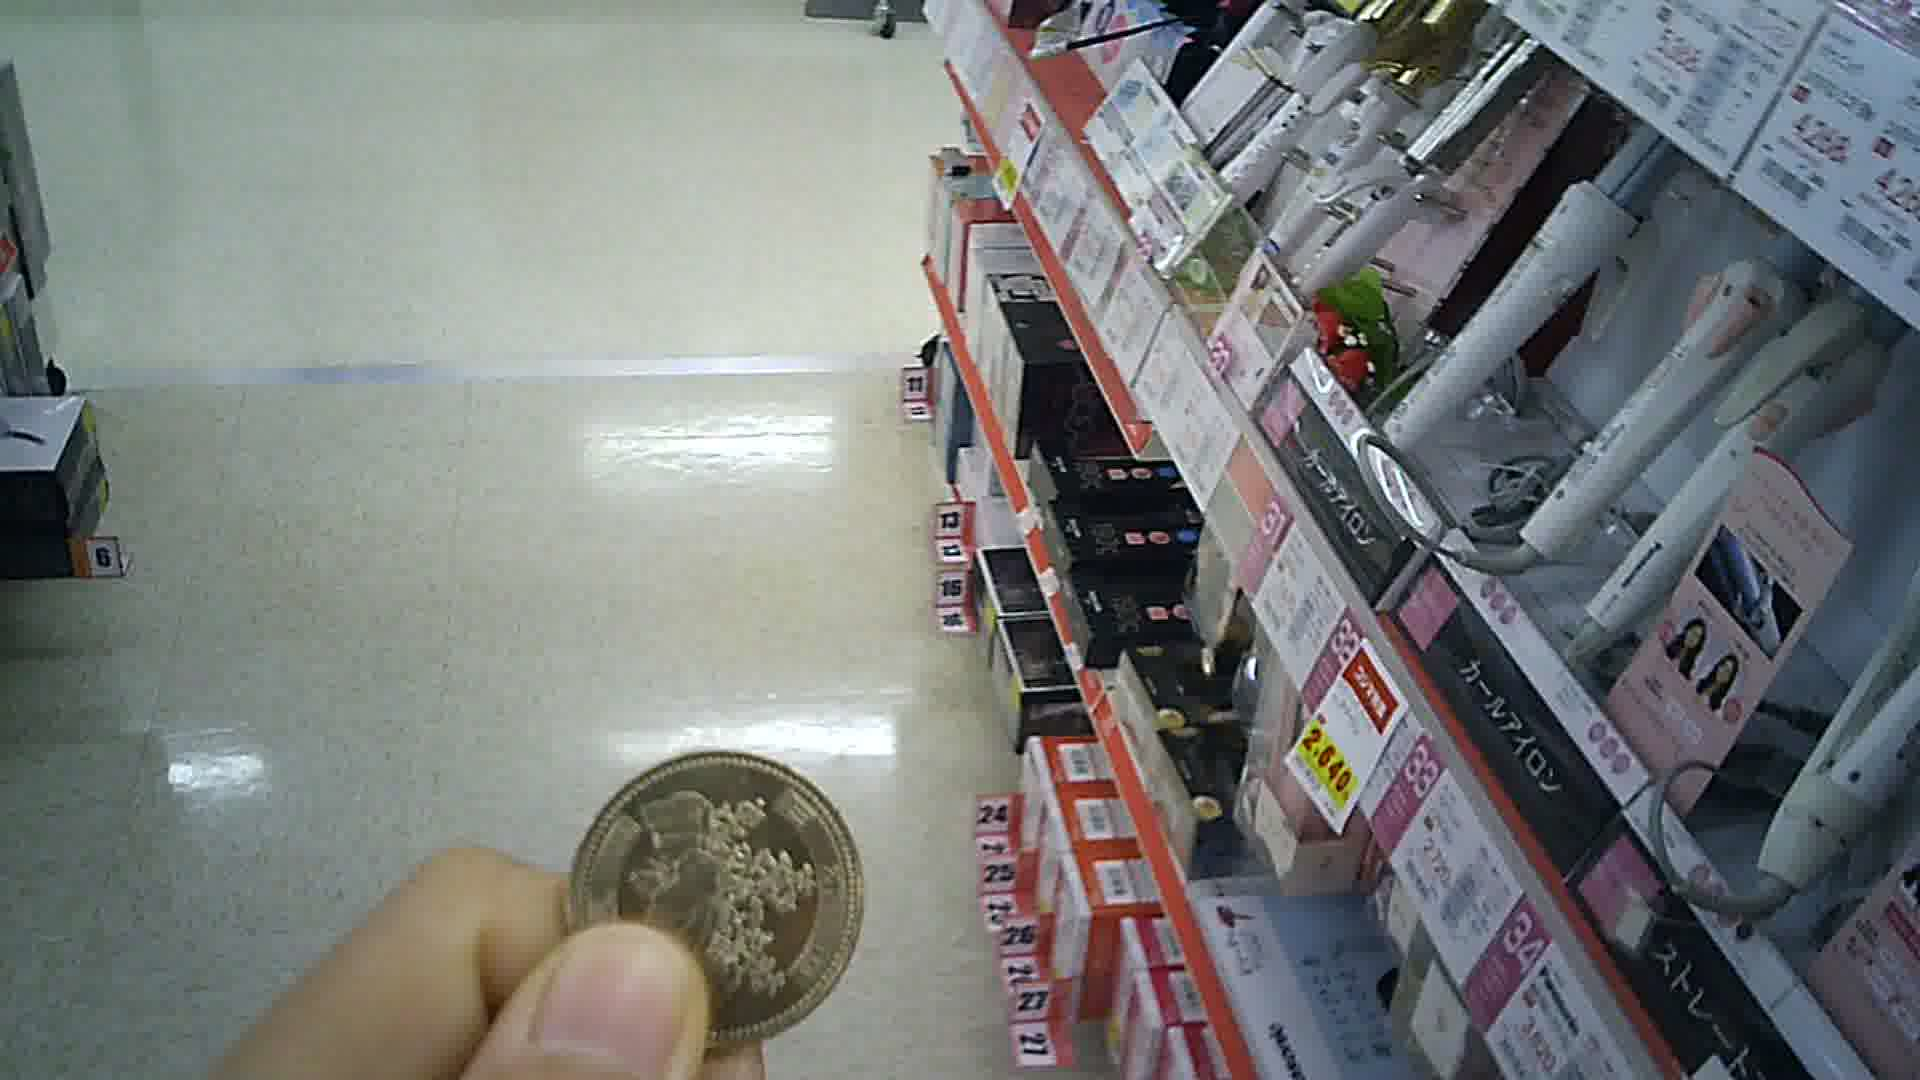500 Yen: (560, 729, 869, 1056)
